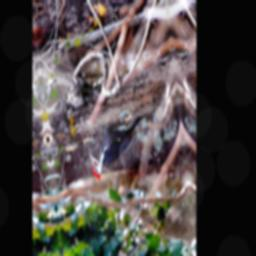Woodpecker: (85, 114, 153, 188)
